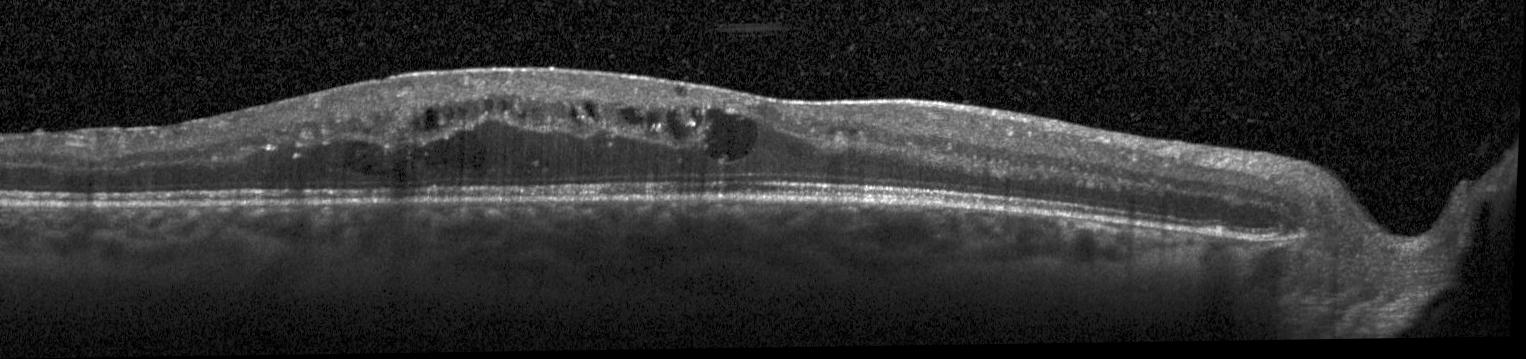intraretinal_cyst: (705, 111, 758, 163), (667, 109, 704, 145), (426, 109, 443, 132), (621, 110, 644, 126), (585, 102, 599, 123), (647, 113, 662, 132), (828, 129, 860, 137), (444, 106, 455, 128), (458, 108, 470, 127), (412, 119, 426, 135), (482, 100, 495, 115), (570, 104, 579, 125), (501, 102, 514, 115), (675, 89, 686, 97), (519, 111, 527, 121)
